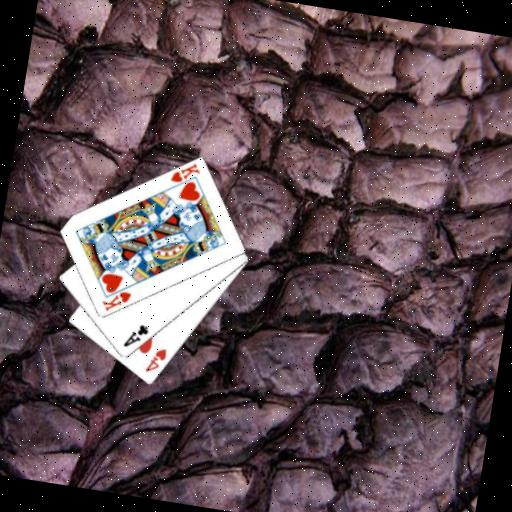4H: (141, 342, 168, 376)
AC: (119, 319, 150, 352)
KH: (97, 285, 133, 316), (167, 157, 203, 187)
